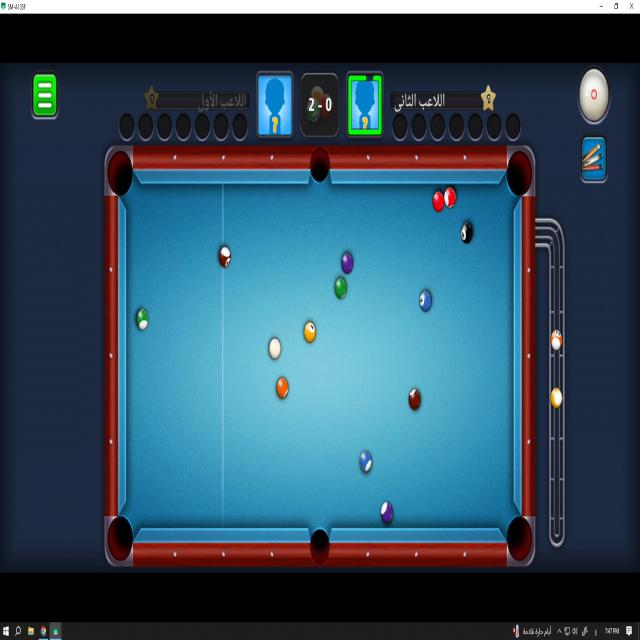object_ball: (408, 388, 421, 410), (218, 246, 230, 268), (304, 322, 316, 343), (381, 502, 393, 523), (342, 253, 353, 274), (137, 309, 148, 330), (335, 278, 346, 299), (433, 191, 444, 212), (277, 378, 288, 398), (461, 223, 472, 243), (360, 451, 371, 471), (420, 291, 431, 311), (444, 188, 455, 207)
white_cue_ball: (269, 338, 280, 359)
